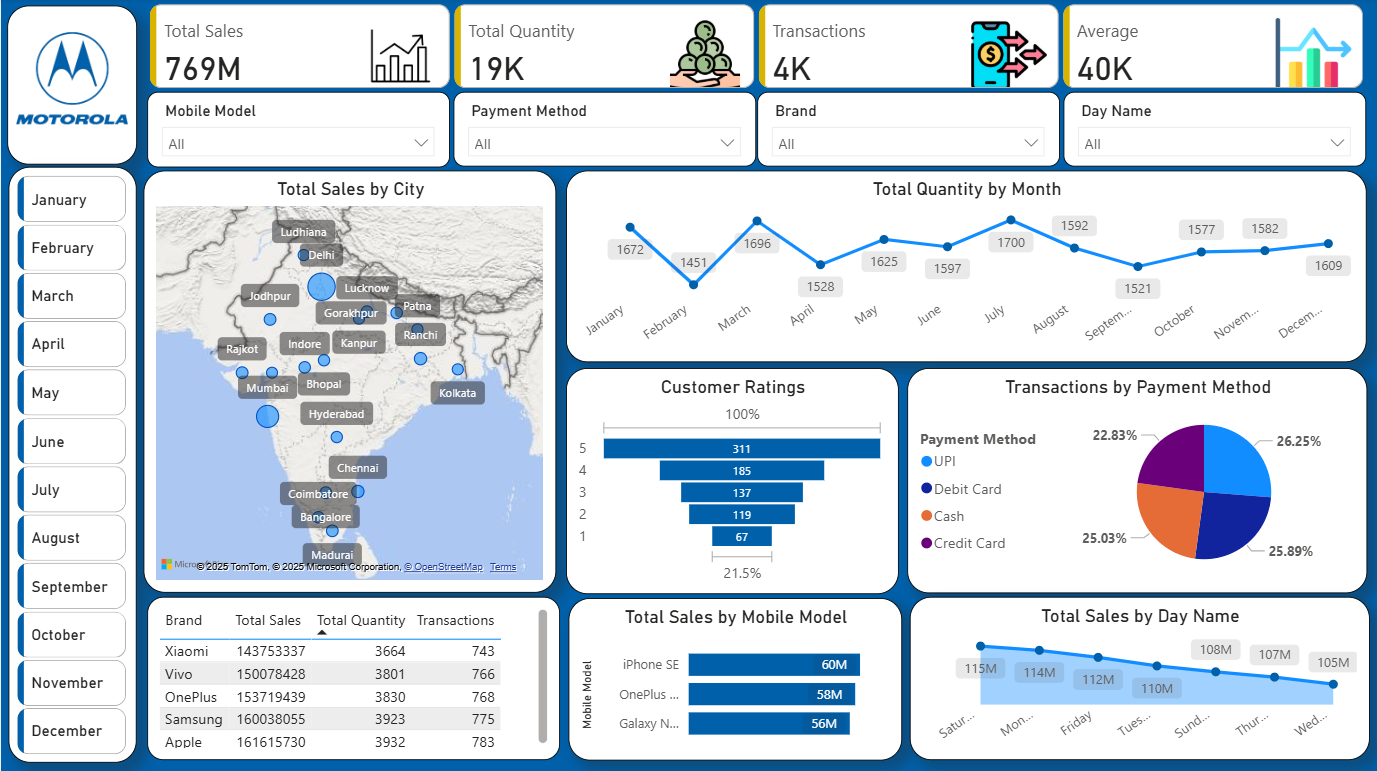

What the dashboard file says about the page in this screenshot:
{"tool":"powerbi","page":{"name":"Page 1","canvas":[1280,720],"ordinal":0},"visuals":[{"type":"shape","box":[5.5,6.9,120.8,148.2],"z":0},{"type":"image","box":[9.6,16.5,113.9,116.6],"z":1000},{"type":"shape","box":[6.9,156.4,119.4,554.4],"z":2000},{"type":"advancedSlicerVisual","fields":{"Values":["Sales_Data.Date.Variation.Date Hierarchy.Month"]},"box":[11,160.5,111.1,548.9],"z":3000},{"type":"cardVisual","fields":{"Data":["Sales_Data.Total Sales","Sales_Data.Total Quantity","Sales_Data.Transactions","Sales_Data.Average"]},"box":[134,5.6,1140.1,83.7],"z":4000},{"type":"map","fields":{"Category":["Sales_Data.City"],"Size":["Sales_Data.Total Sales"]},"box":[132.9,160.8,384.1,393.1],"z":5000},{"type":"lineChart","fields":{"Y":["Sales_Data.Total Quantity"],"Category":["Sales_Data.Date.Variation.Date Hierarchy.Month","Sales_Data.Date.Variation.Date Hierarchy.Day"]},"box":[525.9,160.8,744.8,178.7],"z":6000},{"type":"clusteredBarChart","fields":{"Category":["Sales_Data.Mobile Model"],"Y":["Sales_Data.Total Sales"]},"box":[527.9,558.1,310.5,151.2],"z":7000},{"type":"pieChart","fields":{"Category":["Sales_Data.Payment Method"],"Y":["Sales_Data.Transactions"]},"box":[842.5,344.4,428.1,209.9],"z":8000},{"type":"funnel","title":"Customer Ratings","fields":{"Category":["Sales_Data.Customer Ratings"],"Y":["CountNonNull(Sales_Data.Customer Ratings)"]},"box":[525.6,344.2,309.3,210.5],"z":9000},{"type":"areaChart","fields":{"Category":["Sales_Data.Day Name"],"Y":["Sales_Data.Total Sales"]},"box":[845.4,557,427.9,152.3],"z":10000},{"type":"tableEx","fields":{"Values":["Sales_Data.Brand","Sales_Data.Total Sales","Sales_Data.Total Quantity","Sales_Data.Transactions"]},"box":[136,557,383.7,152.3],"z":11000},{"type":"slicer","fields":{"Values":["Sales_Data.Mobile Model"]},"box":[136.2,87.1,281.4,70.3],"z":12000},{"type":"slicer","fields":{"Values":["Sales_Data.Payment Method"]},"box":[421,87.1,281.4,69.2],"z":13000},{"type":"slicer","fields":{"Values":["Sales_Data.Brand"]},"box":[703.5,87.1,281.4,69.2],"z":14000},{"type":"slicer","fields":{"Values":["Sales_Data.Day Name"]},"box":[988.2,87.1,281.4,69.2],"z":15000}]}

Visuals, with their boxes in screenshot pixels (x1, y1, x2, y2), scaled from the page's 1280x720 canvas onto the 1377x771 screenshot:
shape: locate(6, 7, 136, 166)
image: locate(10, 18, 133, 143)
shape: locate(7, 167, 136, 761)
advancedSlicerVisual - Sales_Data.Date.Variation.Date Hierarchy.Month: locate(12, 172, 131, 760)
cardVisual - Sales_Data.Total Sales x Sales_Data.Total Quantity: locate(144, 6, 1371, 96)
map - Sales_Data.City x Sales_Data.Total Sales: locate(143, 172, 556, 593)
lineChart - Sales_Data.Total Quantity x Sales_Data.Date.Variation.Date Hierarchy.Month: locate(566, 172, 1367, 364)
clusteredBarChart - Sales_Data.Mobile Model x Sales_Data.Total Sales: locate(568, 598, 902, 760)
pieChart - Sales_Data.Payment Method x Sales_Data.Transactions: locate(906, 369, 1367, 594)
"Customer Ratings" funnel: locate(565, 369, 898, 594)
areaChart - Sales_Data.Day Name x Sales_Data.Total Sales: locate(909, 596, 1370, 760)
tableEx - Sales_Data.Brand x Sales_Data.Total Sales: locate(146, 596, 559, 760)
slicer - Sales_Data.Mobile Model: locate(147, 93, 449, 169)
slicer - Sales_Data.Payment Method: locate(453, 93, 756, 167)
slicer - Sales_Data.Brand: locate(757, 93, 1060, 167)
slicer - Sales_Data.Day Name: locate(1063, 93, 1366, 167)
